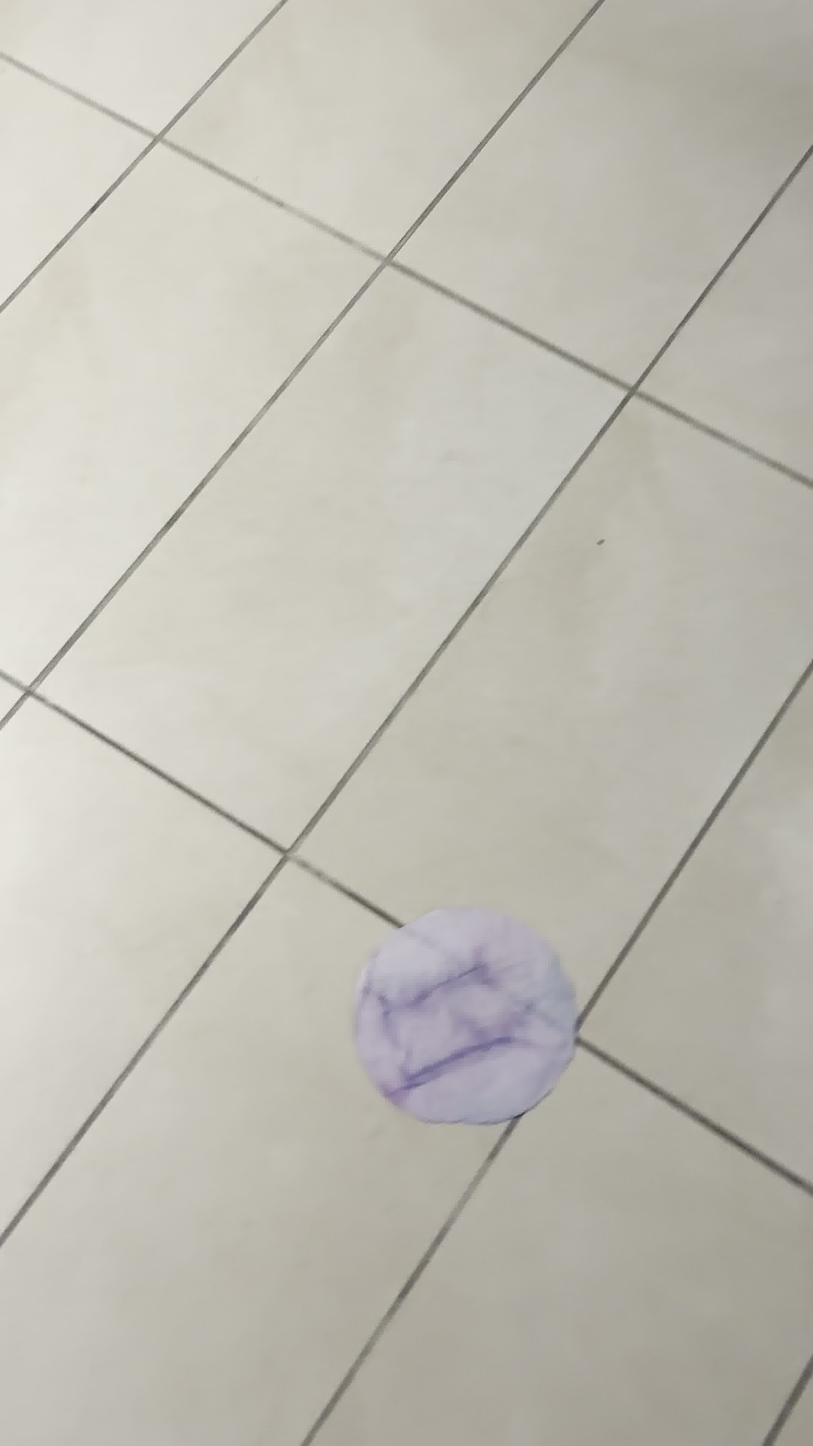Target: (347, 908, 575, 1126)
